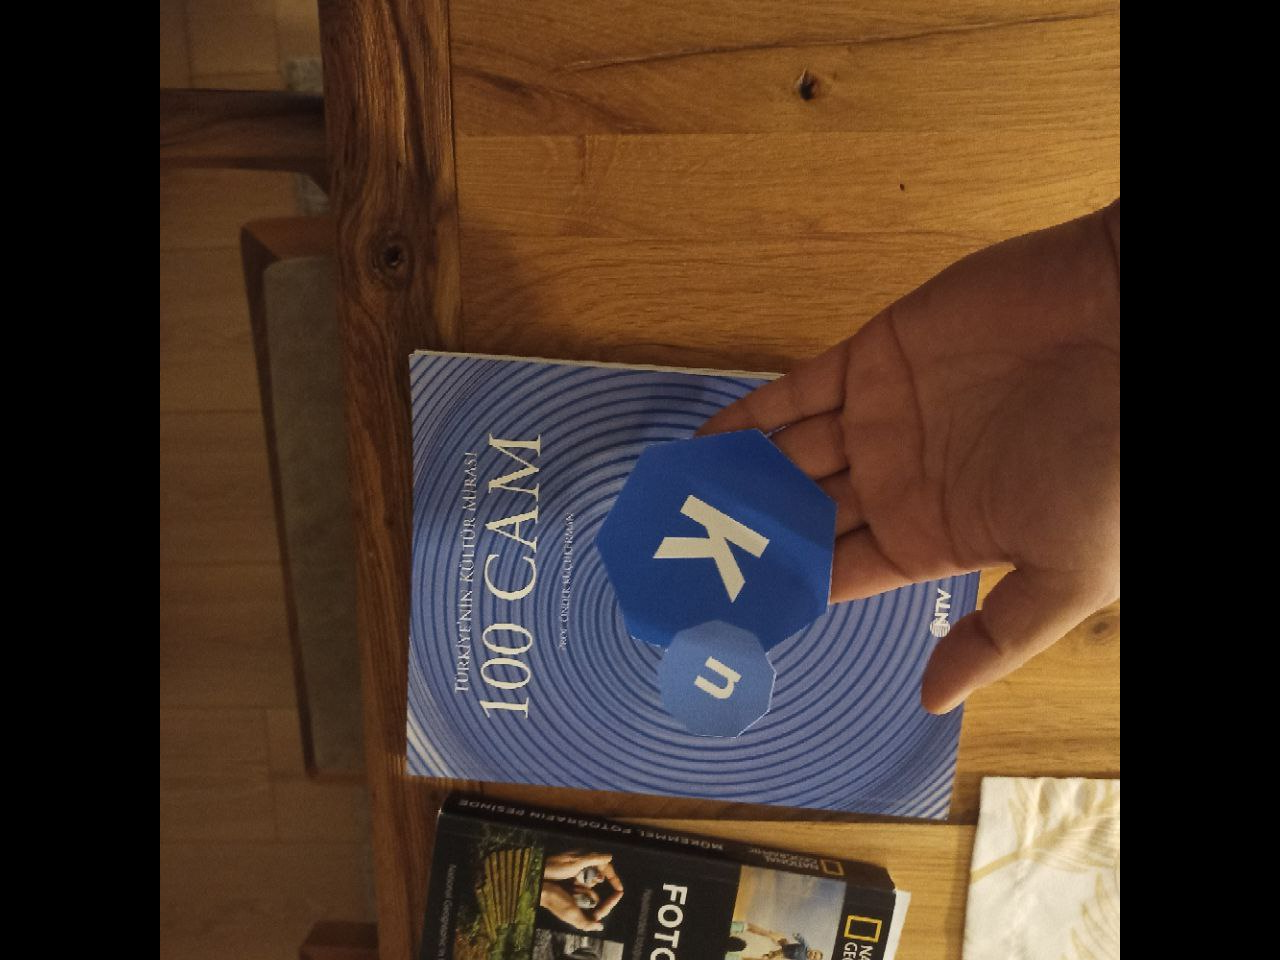knative: (594, 429, 834, 741)
